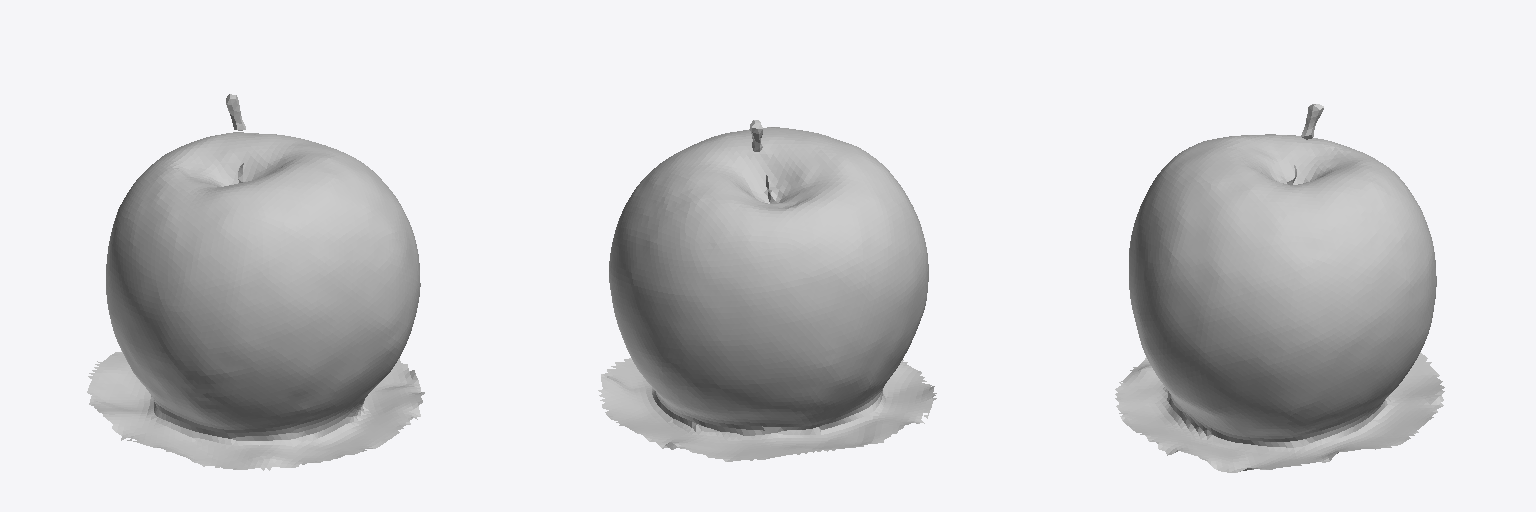
Rendered from apple_instantmesh.obj.
The picture shows the model from 3 angles: view 1: azimuth 30°, elevation 25°; view 2: azimuth 150°, elevation 25°; view 3: azimuth 270°, elevation 25°; orthographic projection.
Size of the model in its own units: 0.2861 by 0.2766 by 0.277.